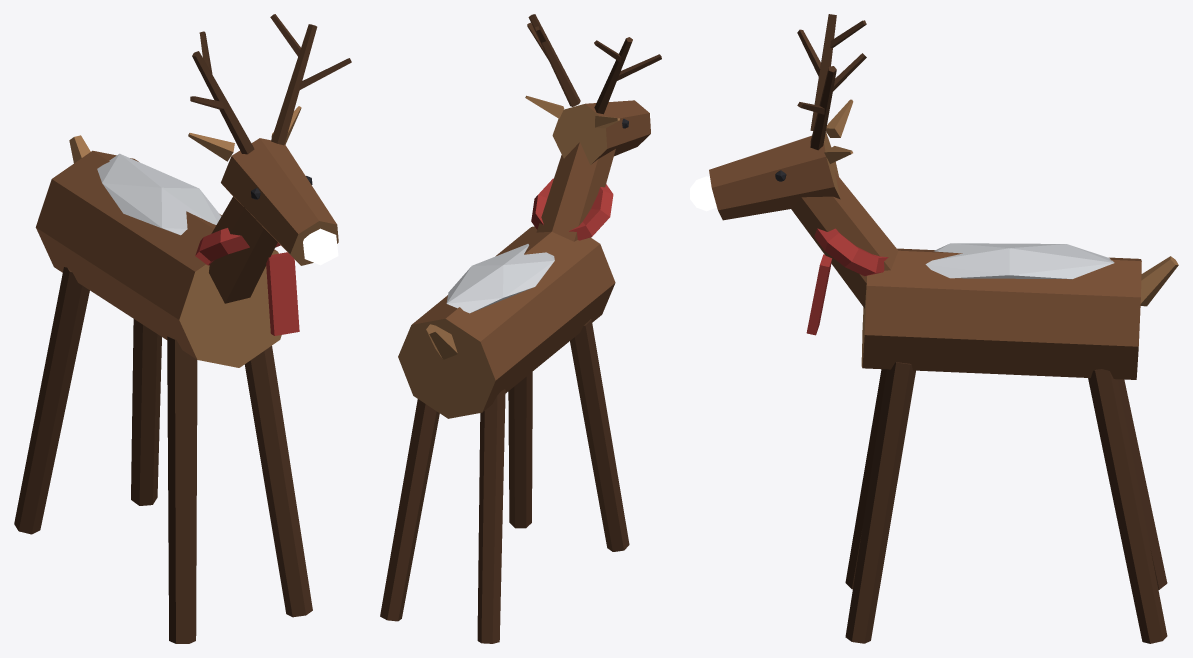
Rendered from wooden-reindeer.glb.
The picture shows the model from 3 angles, left to right: view 1: azimuth 30°, elevation 25°; view 2: azimuth 150°, elevation 25°; view 3: azimuth 270°, elevation 25°; orthographic projection. The views are drawn at different scales.
Visible parts, largest first — view 1: wooden-reindeer; view 2: wooden-reindeer; view 3: wooden-reindeer.
Boxes of the visible parts, left/top/right/bottom form: wooden-reindeer: left=14, top=14, right=351, bottom=643; wooden-reindeer: left=380, top=14, right=661, bottom=643; wooden-reindeer: left=690, top=14, right=1178, bottom=643.
Bounding box in the file's own units: 0.5516 × 1.97 × 1.52.
